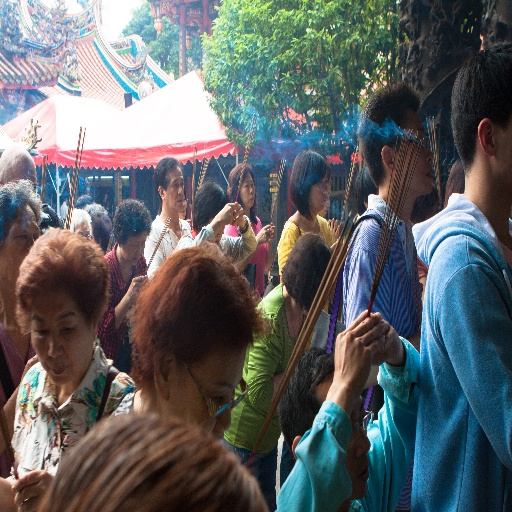hand: (333, 309, 413, 412), (9, 468, 54, 511), (373, 316, 404, 365), (125, 273, 147, 304), (216, 201, 235, 226), (232, 200, 244, 226), (326, 218, 340, 240), (257, 222, 270, 242), (331, 238, 341, 256), (269, 221, 275, 243)
